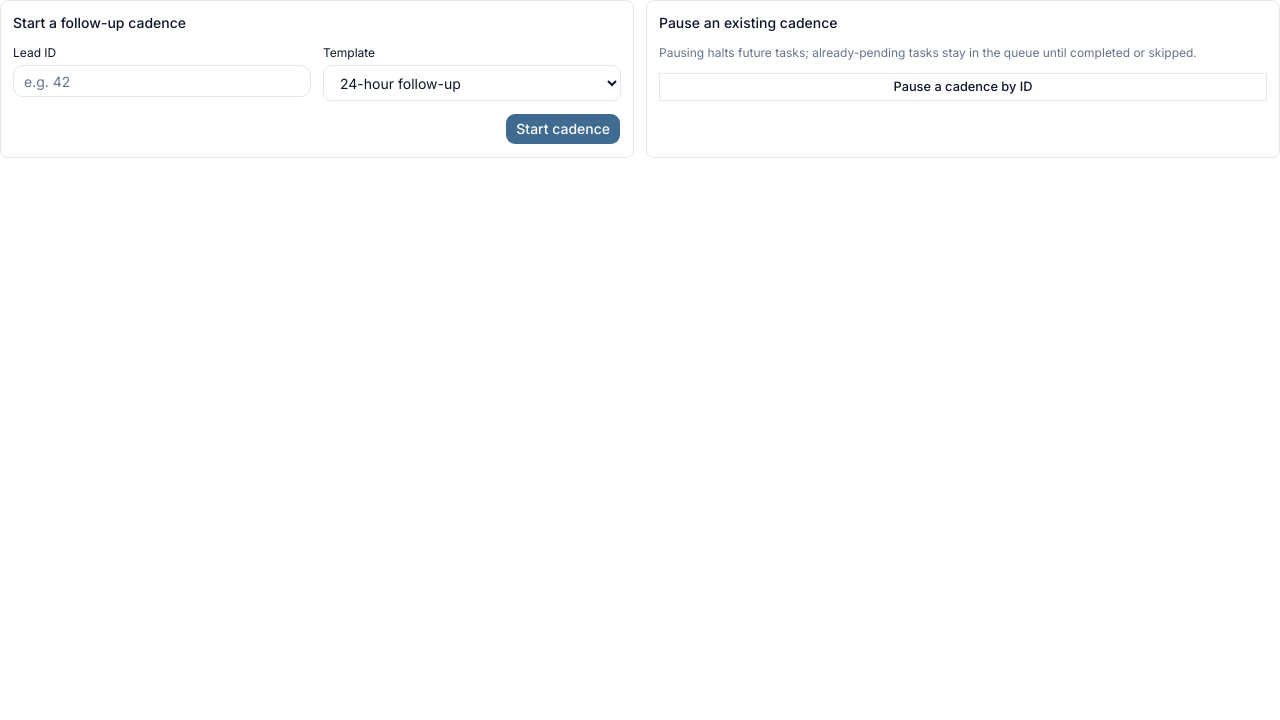
Scenario: PauseCadenceByIdForm + inline pause button › pauses a cadence by ID via the modal
Click the button with test id "pause-cadence-by-id-button": point(963, 87) [659, 73, 1267, 101]
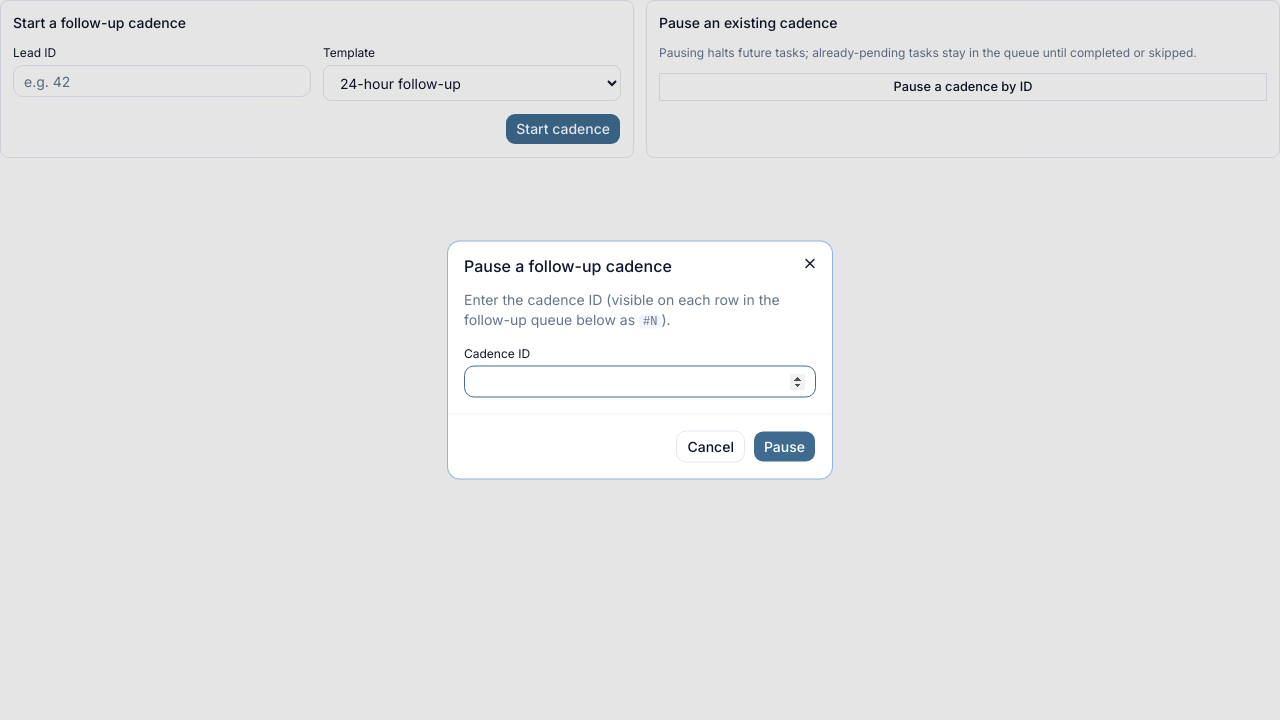
In the number field with test id "pause-cadence-by-id-input": point(640, 382) [464, 366, 816, 398], type "88"
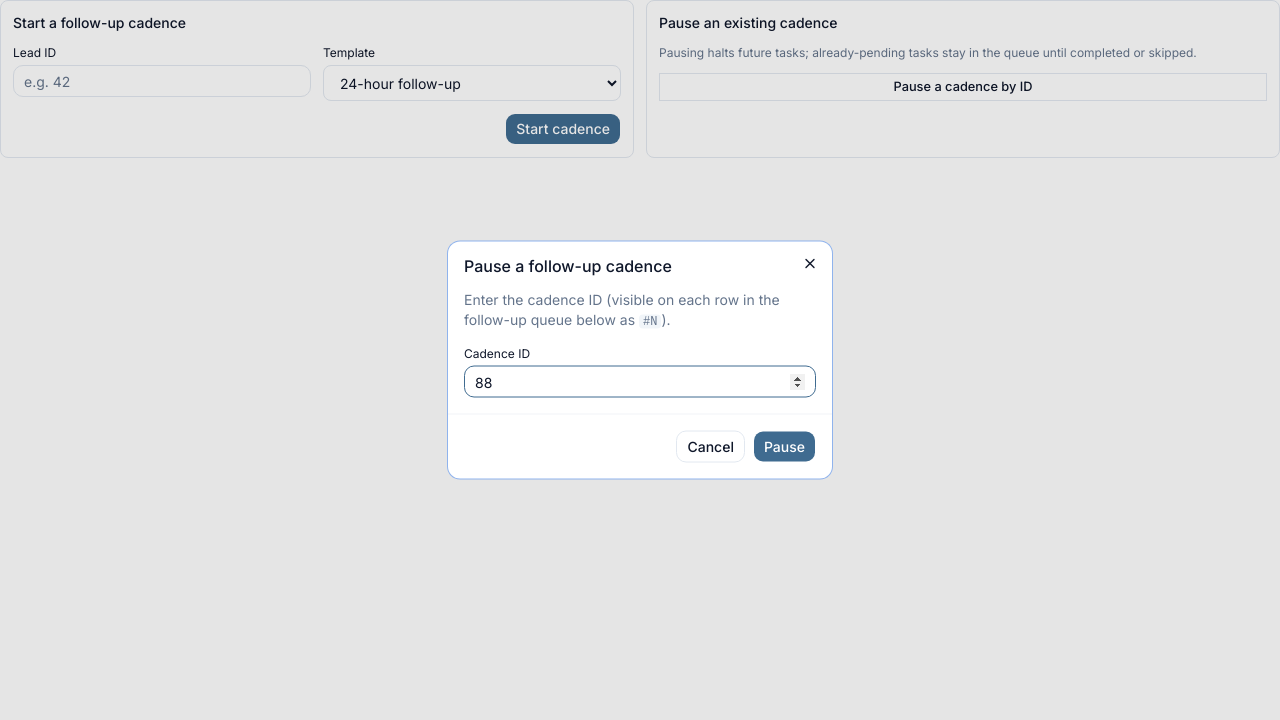
Click the button with test id "pause-cadence-by-id-confirm": point(784, 446) [753, 430, 816, 462]
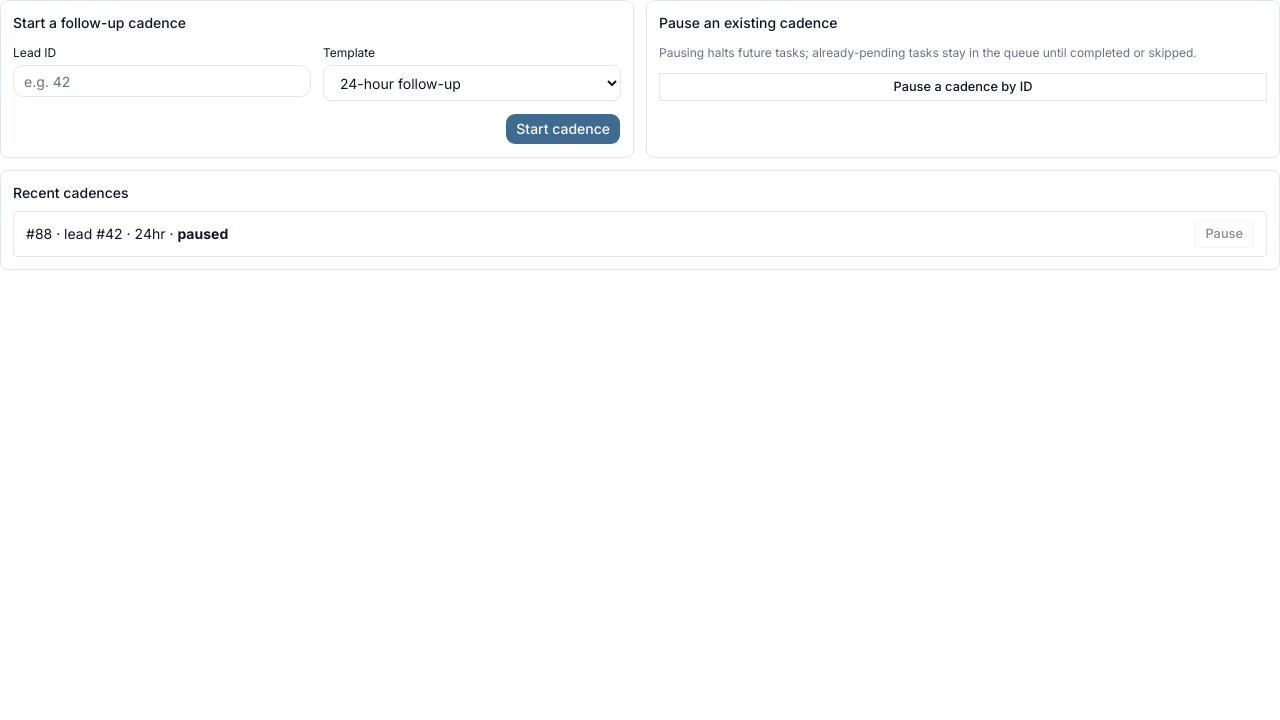
Now the text with test id "cadence-state-88" reads "paused", box [177, 225, 228, 242]
